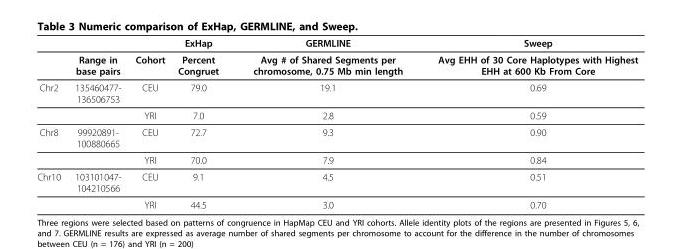table: (36, 36, 637, 209)
table column: (419, 36, 637, 209), (235, 36, 419, 209), (170, 36, 235, 209), (67, 36, 127, 209), (127, 36, 170, 209), (36, 36, 67, 209)
table column header: (36, 36, 637, 50)
table row: (36, 50, 637, 78), (36, 78, 637, 106), (36, 123, 637, 151), (36, 168, 637, 196), (36, 106, 637, 123), (36, 151, 637, 168), (36, 36, 637, 50), (36, 196, 637, 209)
table spanning cell: (36, 78, 67, 123), (36, 123, 67, 168), (36, 168, 67, 209)
